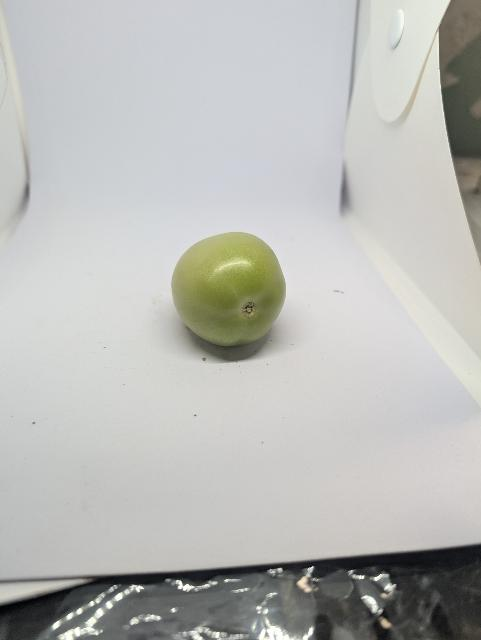green: (169, 229, 291, 349)
